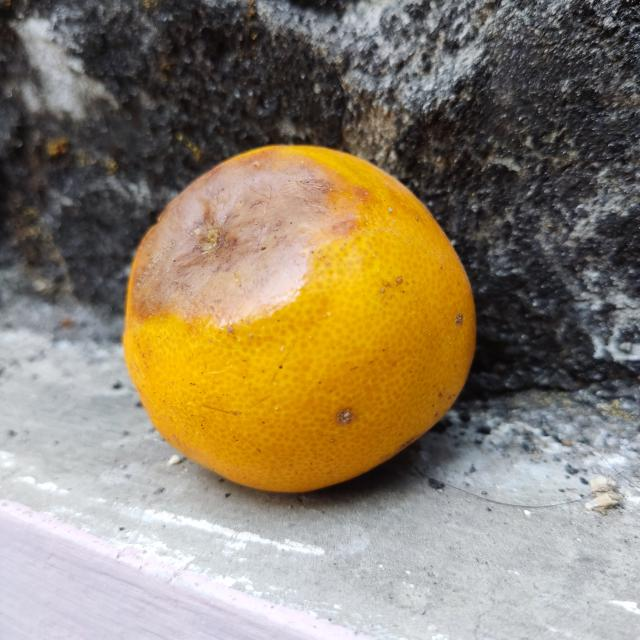orange: (123, 146, 477, 495)
